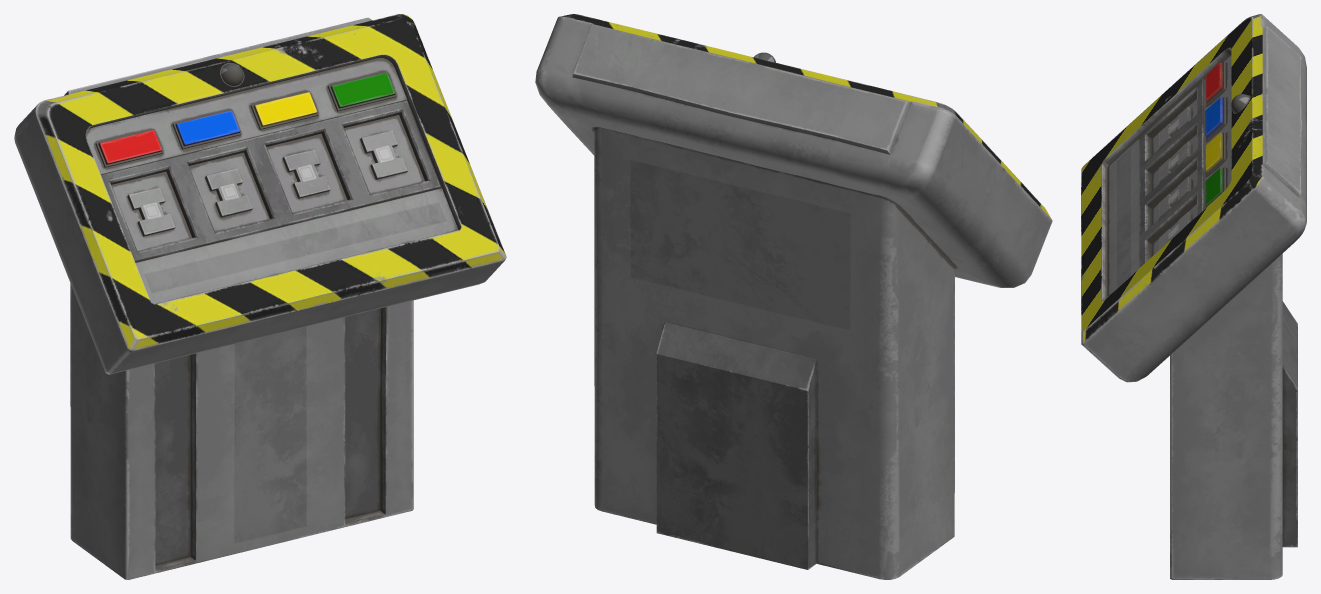
The model's file is ch1BatteryHolder.glb.
3 views of the same model, side by side, from view 1: azimuth 30°, elevation 25°; view 2: azimuth 150°, elevation 25°; view 3: azimuth 270°, elevation 25° (orthographic). The views are drawn at different scales.
Visible parts, largest first — view 1: Object_2; view 2: Object_2; view 3: Object_2.
Boxes of the visible parts, box(x1,y1,x2,y2) form: Object_2: box(14, 14, 506, 579); Object_2: box(535, 14, 1052, 579); Object_2: box(1081, 14, 1306, 579).
Size of the model in its own units: 5.11 by 5.84 by 2.84.
Materials: 1 (1 with a texture image).
